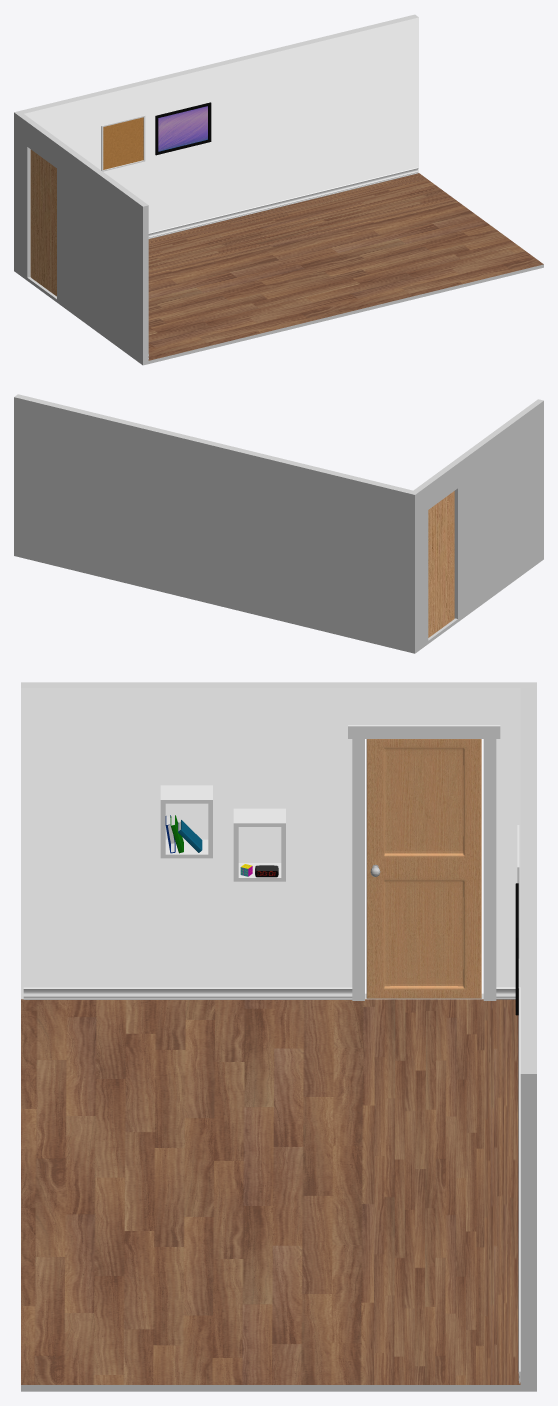
Rendered from room_2.glb.
3 renders of one model, top to bottom at view 1: azimuth 30°, elevation 25°; view 2: azimuth 150°, elevation 25°; view 3: azimuth 270°, elevation 25°, orthographic. The views are drawn at different scales.
Visible parts, largest first — view 1: Cube, Plane, Plane.002, Plane.003, Plane.001; view 2: Cube, Plane; view 3: Cube, Plane, Plane.001, Cube.001.
Boxes of the visible parts, x1,y1,x2,y2 form: Cube: (14,14,543,365); Plane: (30,149,56,296); Plane.002: (155,102,211,155); Plane.003: (101,115,145,171); Plane.001: (148,167,418,358); Cube: (14,394,543,653); Plane: (428,491,454,637); Cube: (21,682,536,1391); Plane: (366,739,481,998); Plane.001: (23,987,520,1383); Cube.001: (160,785,285,881).
Size of the model in its own units: 259 by 97.84 by 144.
23 materials, 5 textured.
